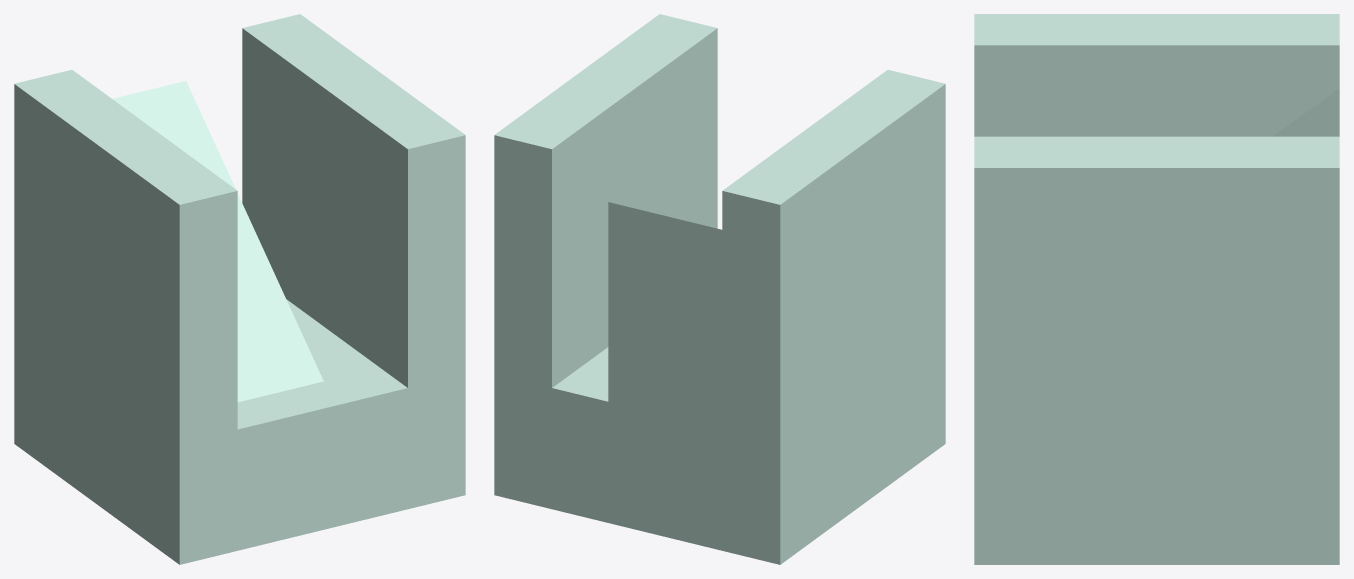
3 views of the same model, side by side, from view 1: azimuth 30°, elevation 25°; view 2: azimuth 150°, elevation 25°; view 3: azimuth 270°, elevation 25° (orthographic). The views are drawn at different scales.
Visible parts, largest first — view 1: Renderer Node; view 2: Renderer Node; view 3: Renderer Node.
Part boxes in pixels (bbox=[...]): Renderer Node: bbox=[14, 14, 465, 564]; Renderer Node: bbox=[494, 14, 945, 564]; Renderer Node: bbox=[974, 14, 1339, 564].
Bounding box in the file's own units: 0.6237 × 0.75 × 0.625.
